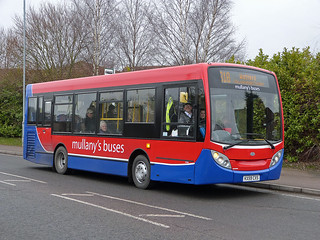bus: (22, 62, 284, 190)
